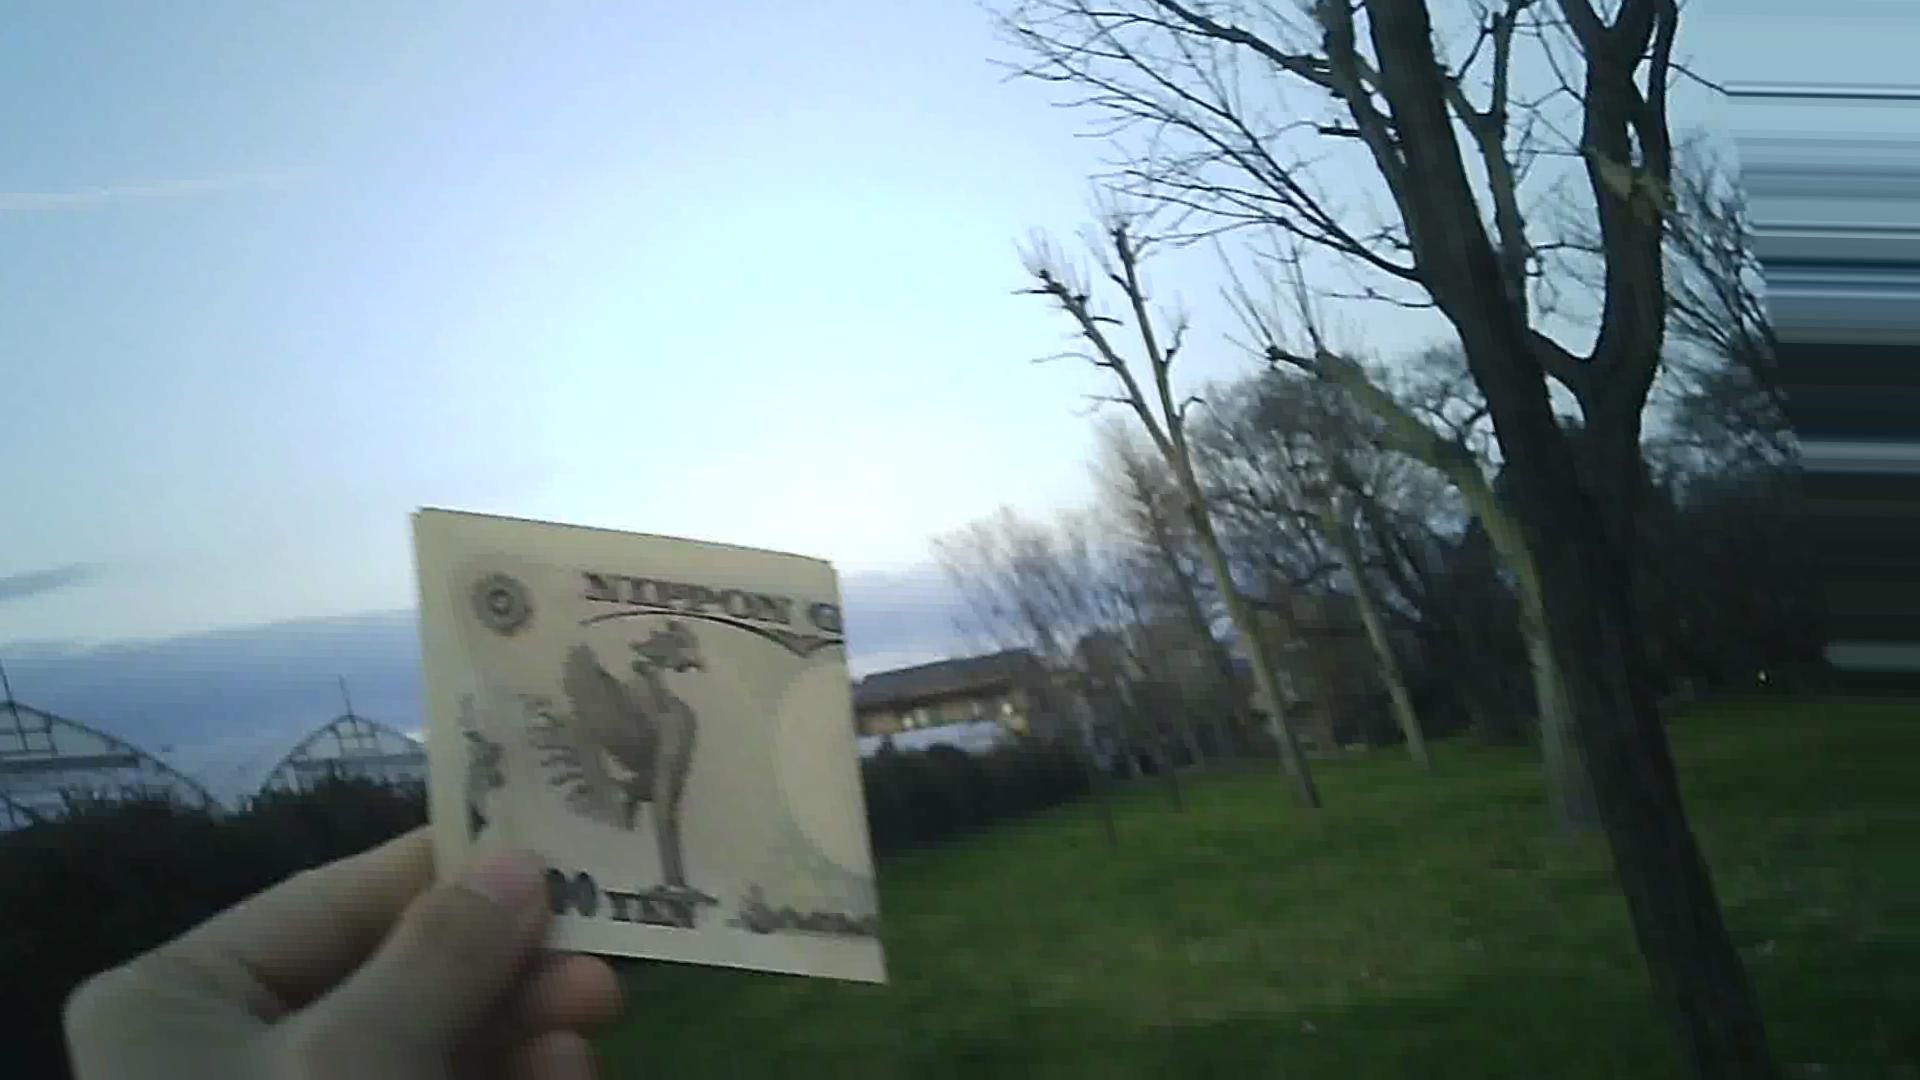10,000 Yen: (392, 476, 924, 1009)
